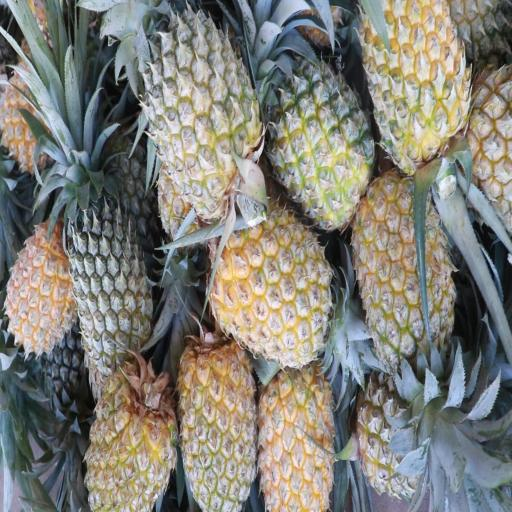------------------------------: (146, 20, 262, 202), (274, 60, 372, 224), (356, 370, 443, 494)
Pineapple - v8 v1: (215, 202, 332, 362), (354, 176, 455, 356), (358, 4, 467, 158), (180, 332, 259, 512), (87, 361, 178, 512), (259, 361, 336, 512), (7, 218, 81, 353), (0, 48, 73, 168)
